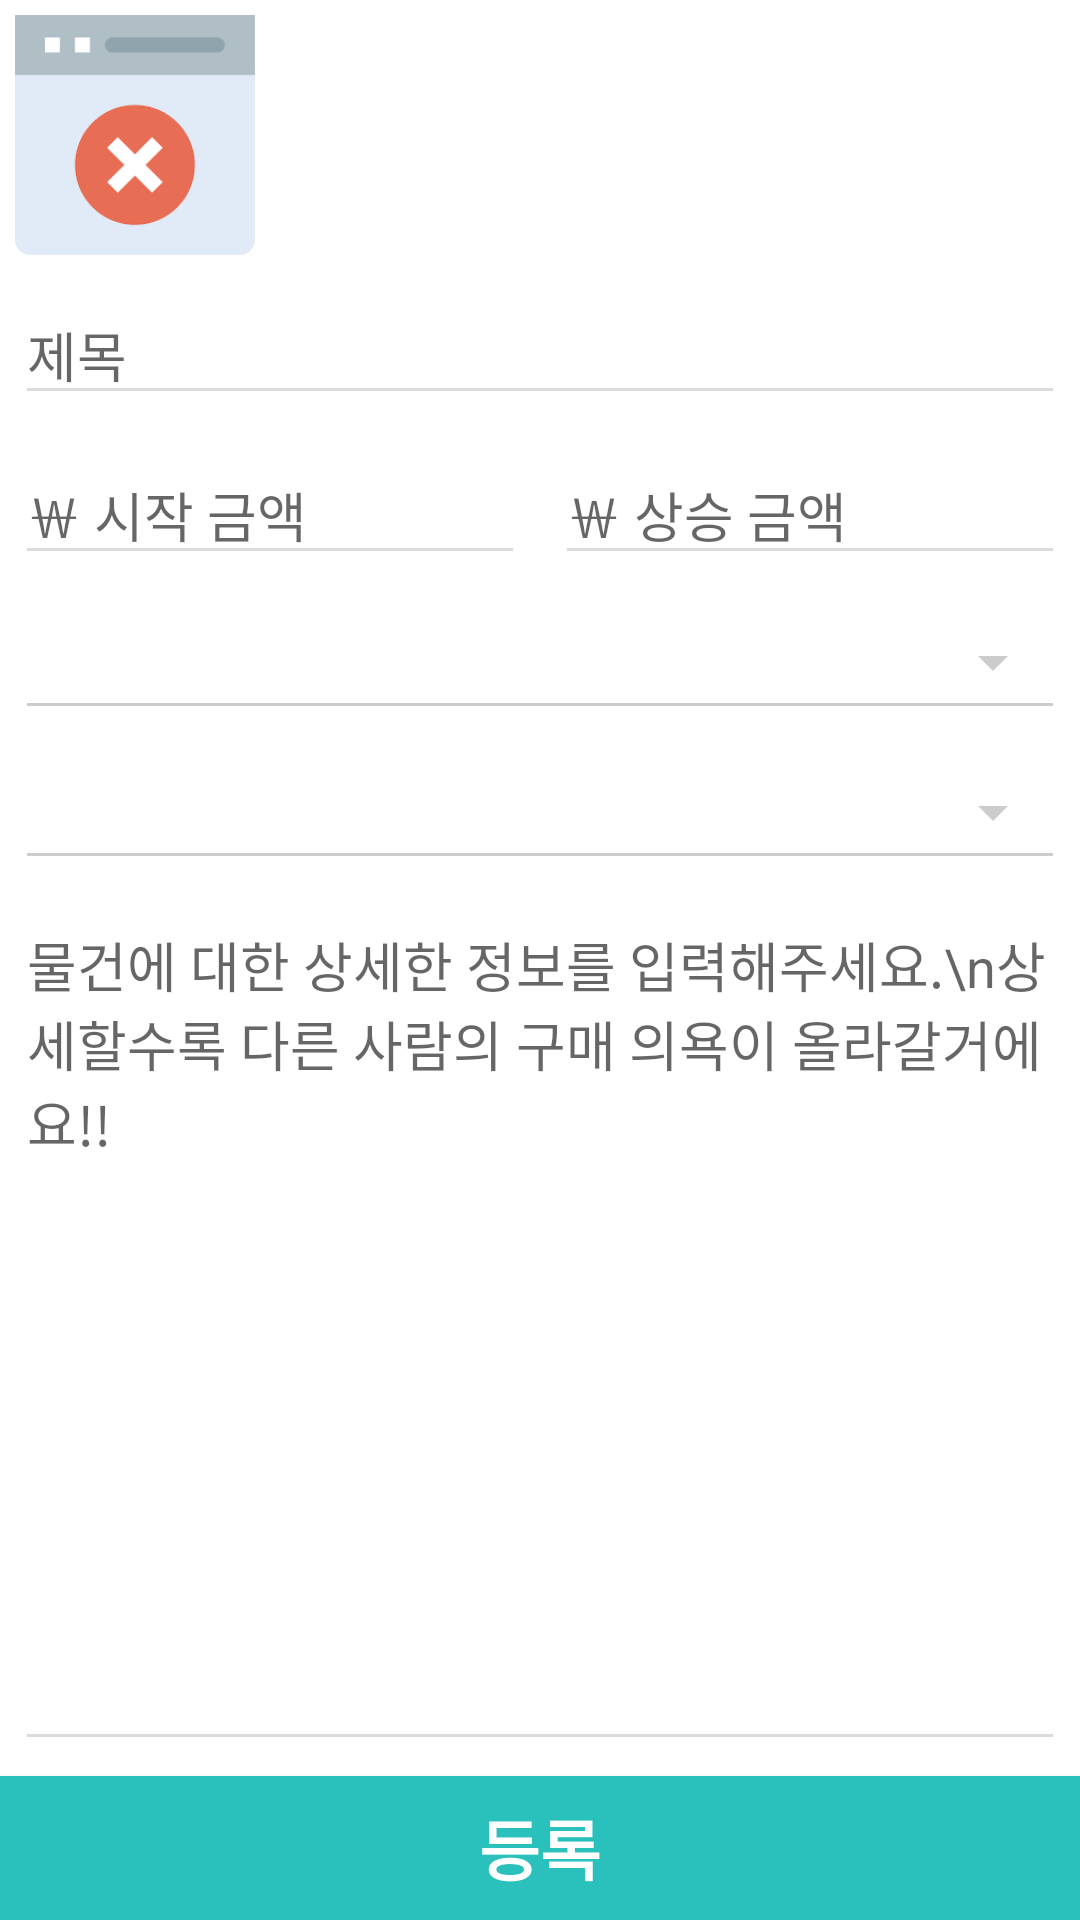

Icon bounding boxes for this 1080×1920 phone screenshot, format [x1, y1, x2, y2]:
noimage: [15, 15, 255, 255]
